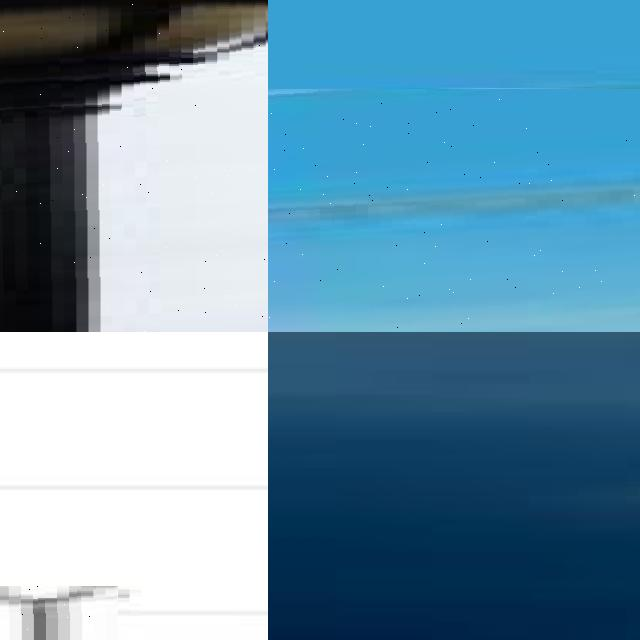street light: (268, 88, 640, 332), (0, 0, 268, 332)
